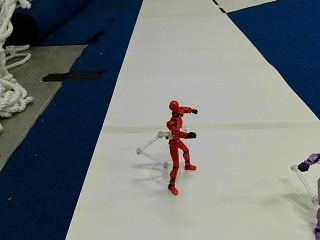pedestrian: (164, 98, 197, 193)
